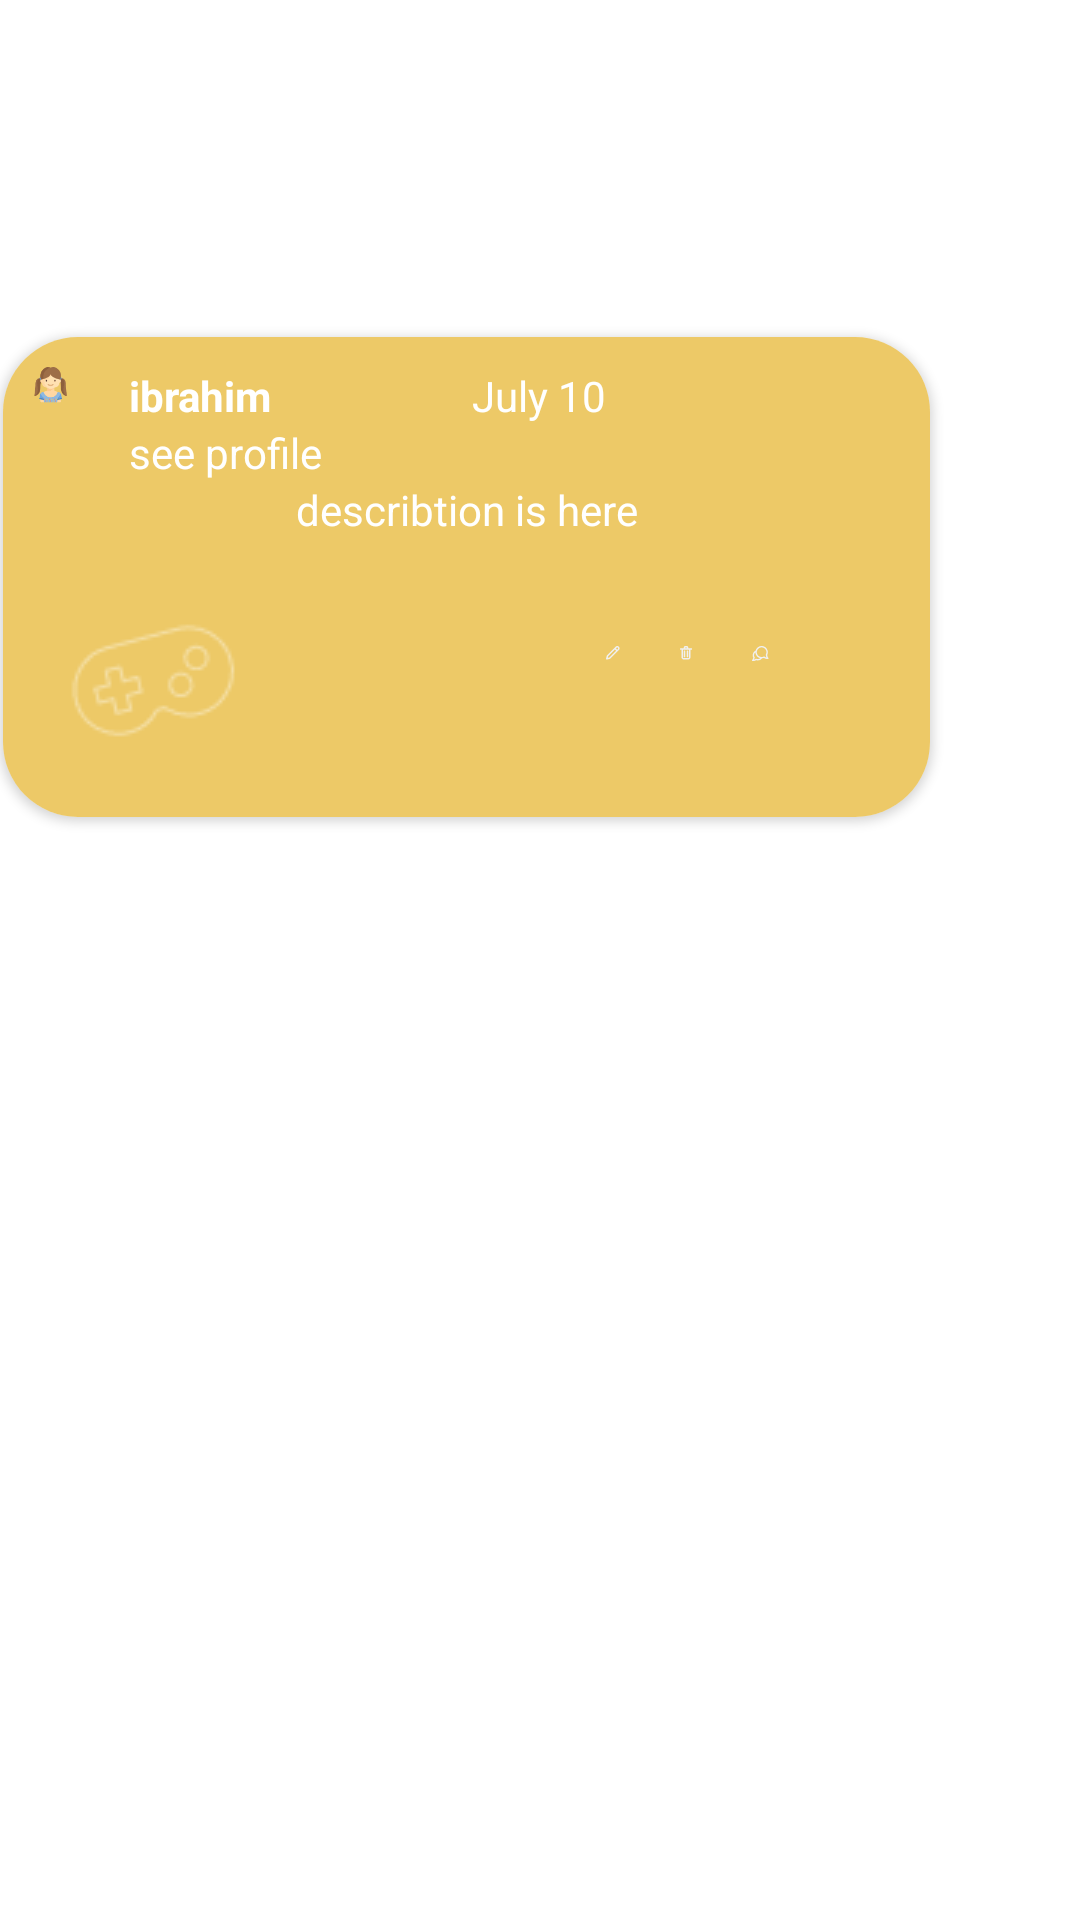

Named icons in this screenshot (1080×1920) and their bounding boxes, [x1,y1,x2,y2]:
gamepad variant: [73,625,234,736]
girl: [34,367,67,403]
